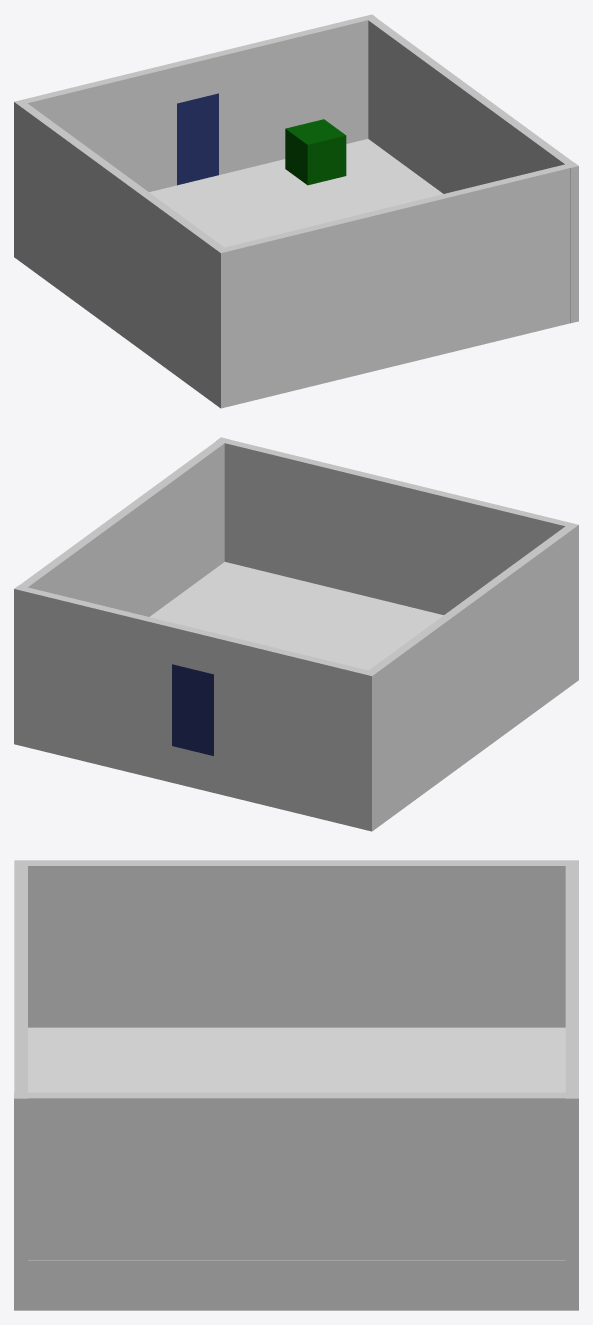
File: Testroom.fbx
3 views of the same model, one above another, from view 1: azimuth 30°, elevation 25°; view 2: azimuth 150°, elevation 25°; view 3: azimuth 270°, elevation 25° (orthographic). The views are drawn at different scales.
Visible parts, largest first — view 1: Cube, Cube.001, Cube.002; view 2: Cube, Cube.001; view 3: Cube.
Boxes of the visible parts, x1=… form: Cube: x1=14, y1=14, x2=578, y2=408; Cube.001: x1=177, y1=93, x2=218, y2=185; Cube.002: x1=285, y1=119, x2=346, y2=185; Cube: x1=14, y1=437, x2=578, y2=831; Cube.001: x1=172, y1=664, x2=213, y2=755; Cube: x1=14, y1=860, x2=578, y2=1310.
Bounding box in the file's own units: 1714 × 711 × 1716.
